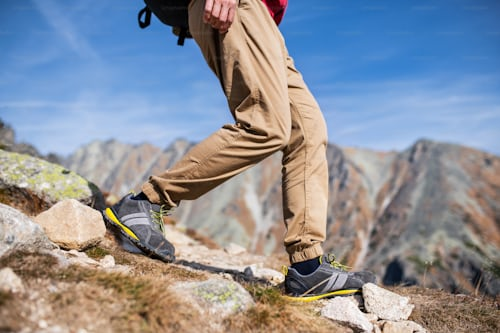Walking: (84, 1, 372, 297)
